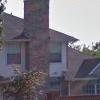Chimney: (16, 2, 61, 41)
